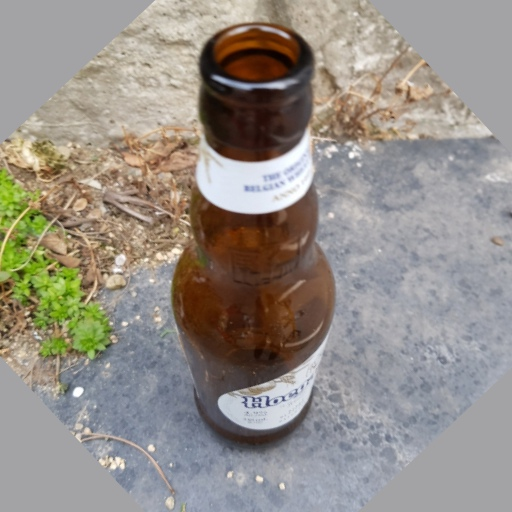Glass_1: (167, 22, 336, 454)
